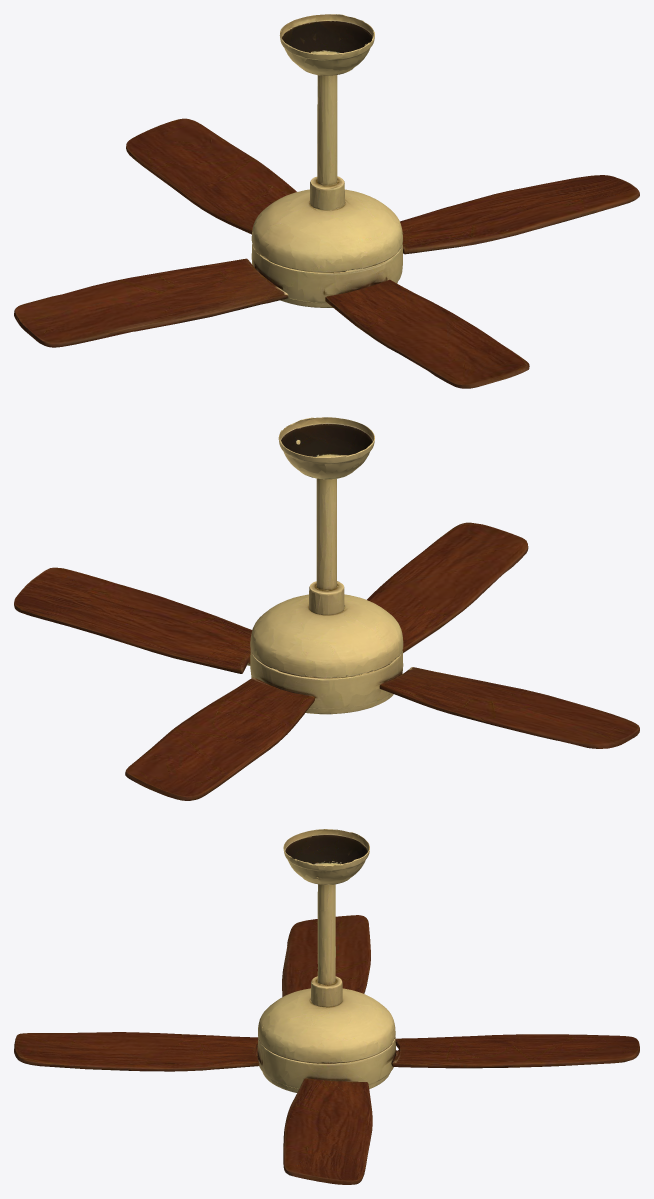
File: w5ceilfan.glb
3 views of the same model, one above another, from view 1: azimuth 30°, elevation 25°; view 2: azimuth 150°, elevation 25°; view 3: azimuth 270°, elevation 25° (orthographic). The views are drawn at different scales.
Visible parts, largest first — view 1: output_unwrapped; view 2: output_unwrapped; view 3: output_unwrapped.
Boxes of the visible parts, bbox=[...] form: output_unwrapped: bbox=[14, 14, 639, 388]; output_unwrapped: bbox=[14, 417, 639, 800]; output_unwrapped: bbox=[14, 829, 639, 1184].
Size of the model in its own units: 1.3 by 0.5199 by 1.3.
1 material, 1 textured.
